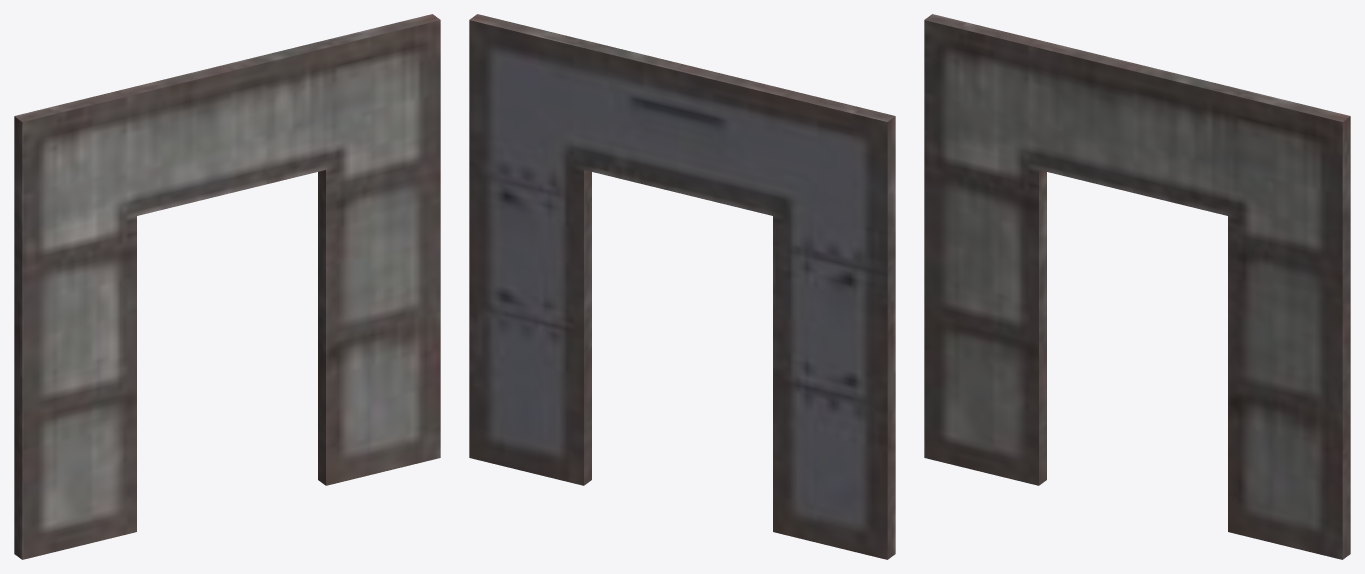
File: armored_doorway_textured.glb
The picture shows the model from 3 angles, left to right: view 1: azimuth 30°, elevation 25°; view 2: azimuth 150°, elevation 25°; view 3: azimuth 330°, elevation 25°; orthographic projection.
Parts seen in each view (by area): view 1: Cube.002; view 2: Cube.002; view 3: Cube.002.
Boxes of the visible parts, bbox=[...] form: Cube.002: bbox=[14, 14, 440, 559]; Cube.002: bbox=[469, 14, 895, 559]; Cube.002: bbox=[924, 14, 1350, 559].
Size of the model in its own units: 2 by 2 by 0.0681.
Materials: 1 (1 with a texture image).
